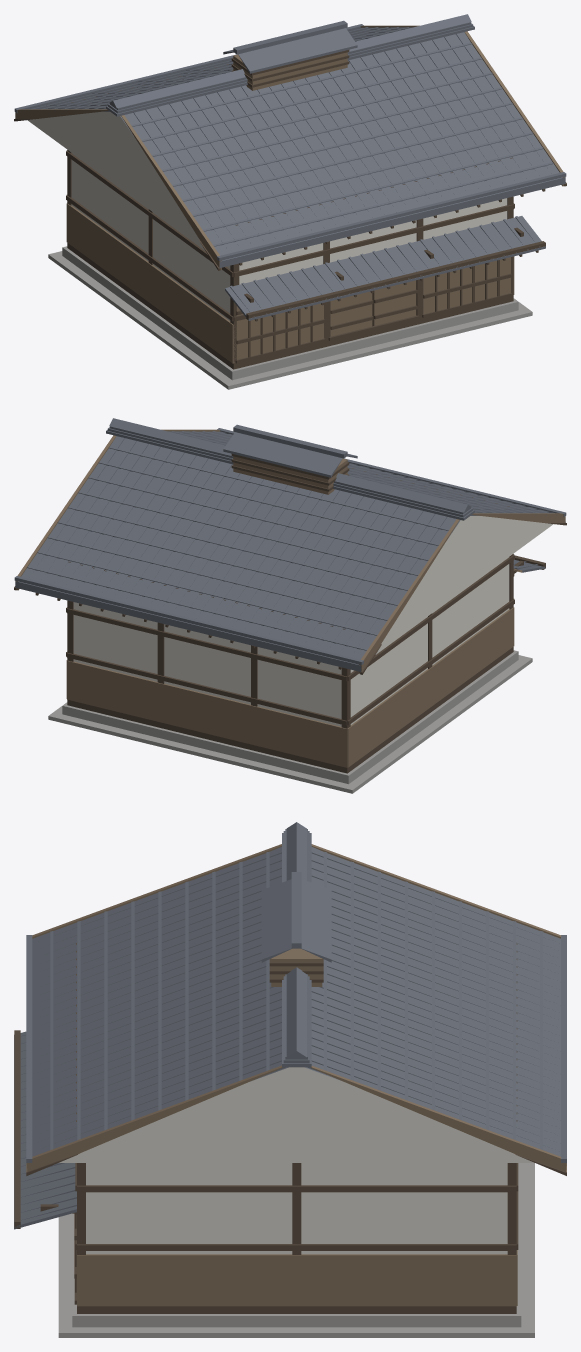
File: machiya_pilot_silhouette_workshop_01.glb
The picture shows the model from 3 angles, top to bottom: view 1: azimuth 30°, elevation 25°; view 2: azimuth 150°, elevation 25°; view 3: azimuth 270°, elevation 25°; orthographic projection. The views are drawn at different scales.
Parts seen in each view (by area): view 1: machiya_pilot_silhouette_workshop_01; view 2: machiya_pilot_silhouette_workshop_01; view 3: machiya_pilot_silhouette_workshop_01.
Part boxes in pixels (x1,y1,x2,y2): machiya_pilot_silhouette_workshop_01: (14,14,566,389); machiya_pilot_silhouette_workshop_01: (14,418,566,793); machiya_pilot_silhouette_workshop_01: (14,822,566,1337).
Size of the model in its own units: 9.2 by 6.17 by 9.31.
